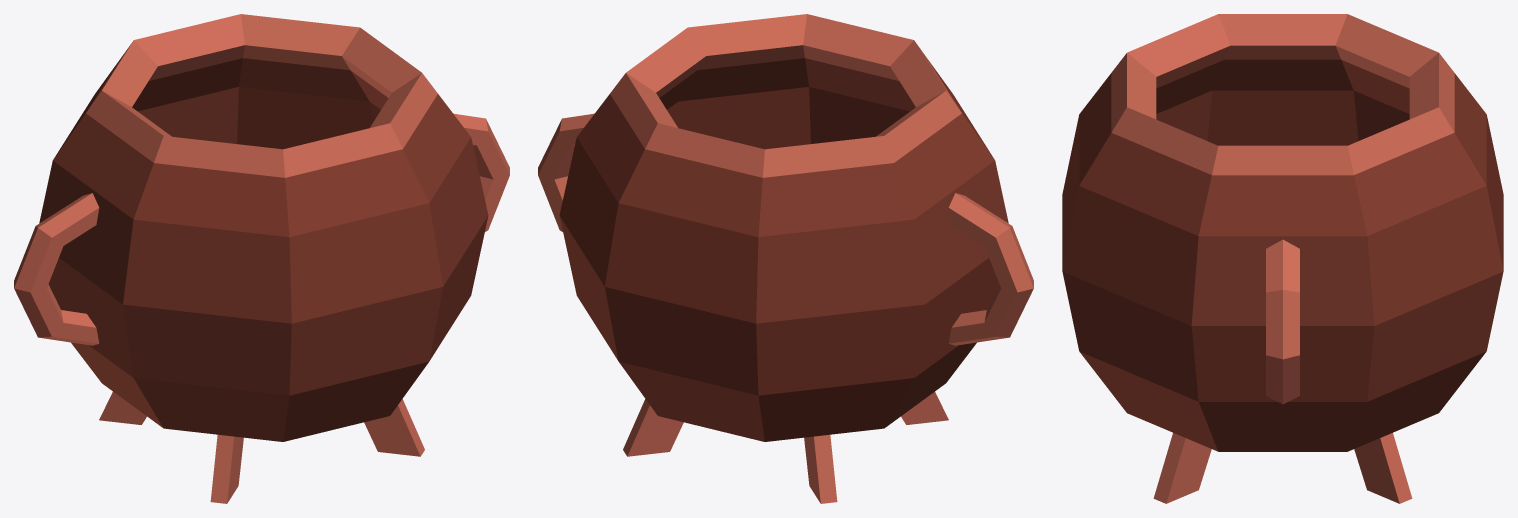
File: Cauldron_3_Red.fbx
3 renders of one model, left to right at view 1: azimuth 30°, elevation 25°; view 2: azimuth 150°, elevation 25°; view 3: azimuth 270°, elevation 25°, orthographic. The views are drawn at different scales.
Visible parts, largest first — view 1: Cauldron_3_Red_Part_1, Cauldron_3_Red_Part_2; view 2: Cauldron_3_Red_Part_1, Cauldron_3_Red_Part_2; view 3: Cauldron_3_Red_Part_1, Cauldron_3_Red_Part_2.
Boxes of the visible parts, x1,y1,x2,y2 form: Cauldron_3_Red_Part_1: (39, 58, 488, 441); Cauldron_3_Red_Part_2: (14, 14, 509, 503); Cauldron_3_Red_Part_1: (559, 58, 1008, 441); Cauldron_3_Red_Part_2: (538, 14, 1033, 503); Cauldron_3_Red_Part_1: (1062, 59, 1503, 451); Cauldron_3_Red_Part_2: (1111, 14, 1454, 503).
Size of the model in its own units: 251 by 171 by 185.
